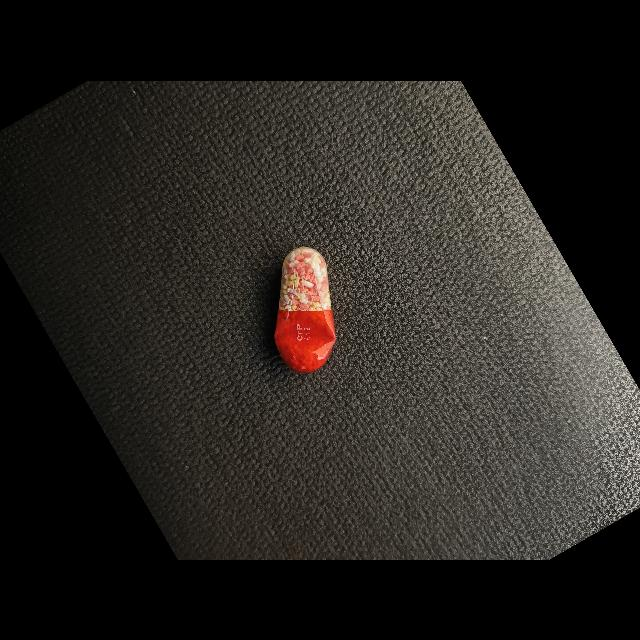Defective Capsule: (274, 246, 336, 373)
